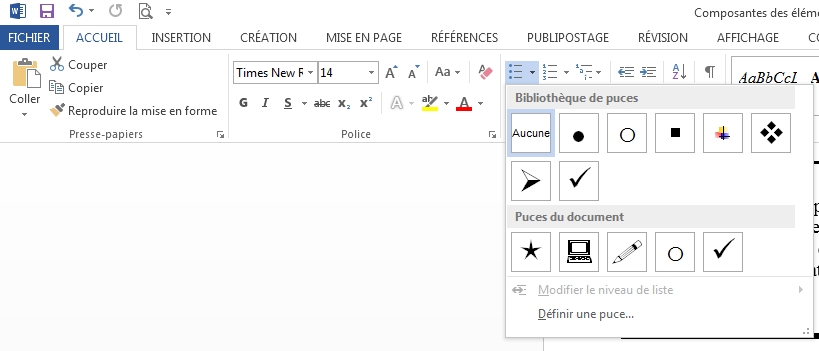texte: (49, 103, 217, 118), (13, 58, 96, 88), (10, 3, 94, 19), (185, 92, 220, 126), (695, 8, 788, 20), (534, 299, 573, 327), (739, 72, 819, 83), (142, 92, 166, 126), (432, 30, 498, 42), (6, 89, 40, 111), (528, 33, 609, 42), (70, 130, 142, 140), (236, 68, 313, 77), (241, 30, 296, 42), (663, 234, 683, 265), (311, 98, 367, 109), (639, 30, 687, 42), (717, 33, 779, 42), (69, 57, 107, 71), (274, 58, 293, 86), (760, 121, 783, 144), (152, 33, 210, 42), (139, 3, 171, 19), (337, 88, 354, 116), (538, 285, 581, 296), (713, 238, 735, 259), (76, 33, 123, 42), (771, 0, 787, 26), (55, 83, 89, 95), (171, 92, 180, 126), (360, 88, 370, 116), (374, 33, 402, 42), (792, 8, 819, 17), (726, 60, 733, 93), (327, 33, 352, 42), (600, 312, 625, 321), (342, 130, 370, 138), (131, 92, 137, 126), (599, 288, 632, 294), (673, 64, 686, 79), (653, 285, 672, 294), (109, 4, 122, 17), (77, 86, 103, 92), (50, 57, 59, 71), (705, 66, 715, 78), (356, 33, 369, 42), (321, 68, 333, 77), (637, 285, 648, 294), (517, 285, 526, 295), (580, 312, 595, 318), (299, 58, 302, 86), (309, 58, 312, 86), (671, 128, 680, 137), (49, 80, 56, 91), (814, 203, 819, 216), (262, 98, 269, 107), (587, 285, 594, 294), (300, 98, 305, 109), (217, 131, 224, 138), (22, 113, 27, 116)
